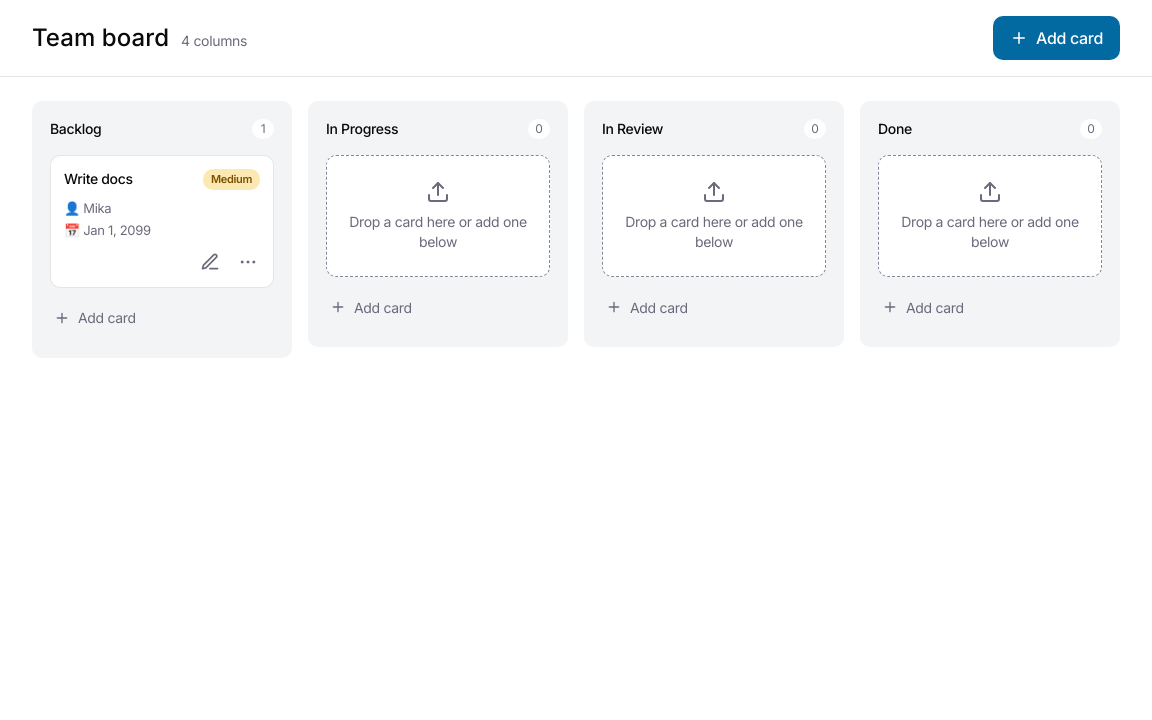
it: keyboard and focus management › closes the ⋯ menu with Escape and returns focus to its button (2.4.3)
Click the button named "More actions for Write docs": (248, 262) [230,244,266,280]
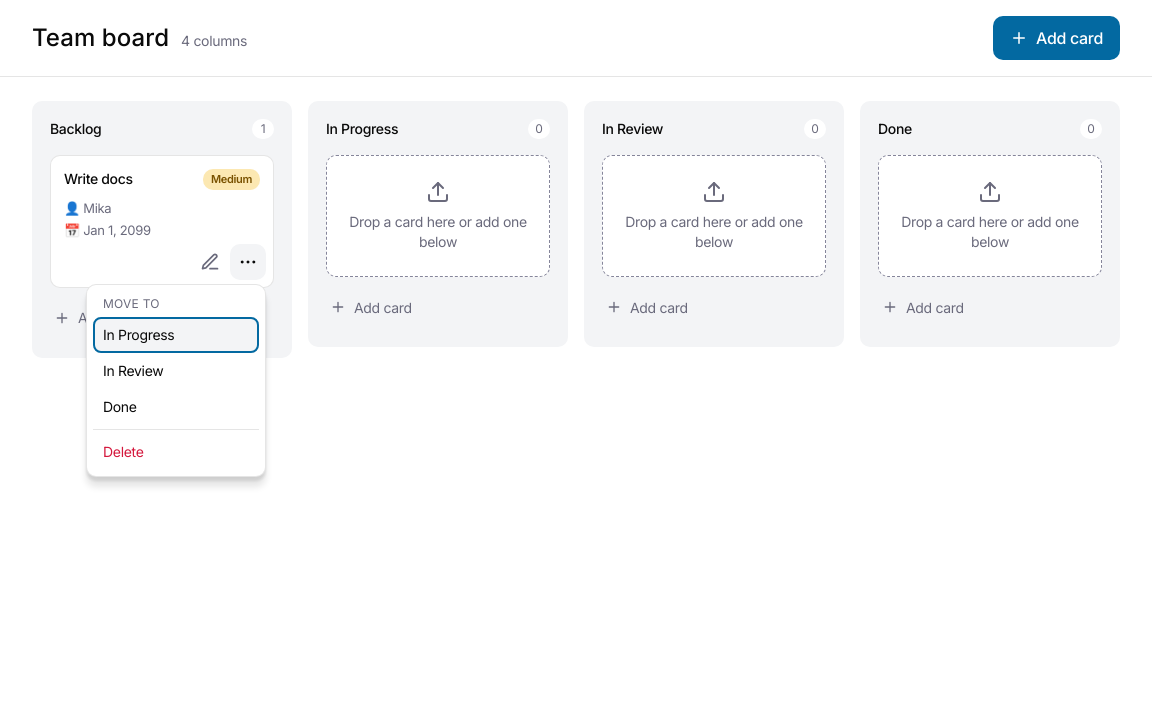
Press Escape
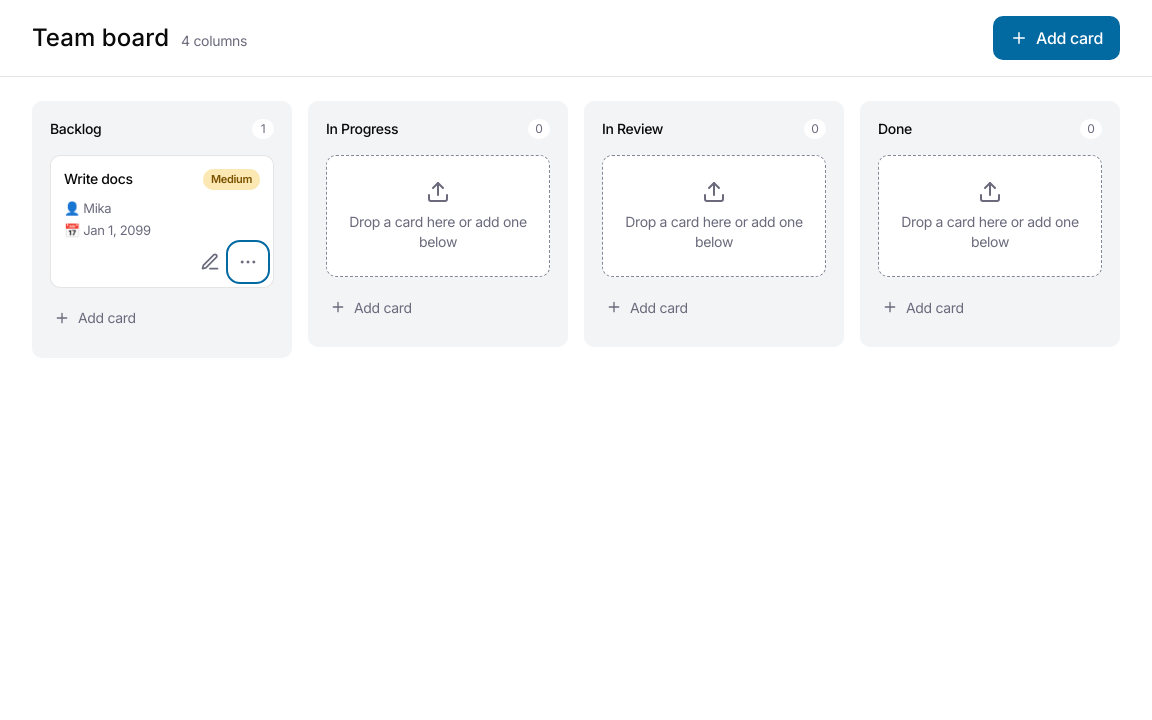
expect the menu is gone: met
